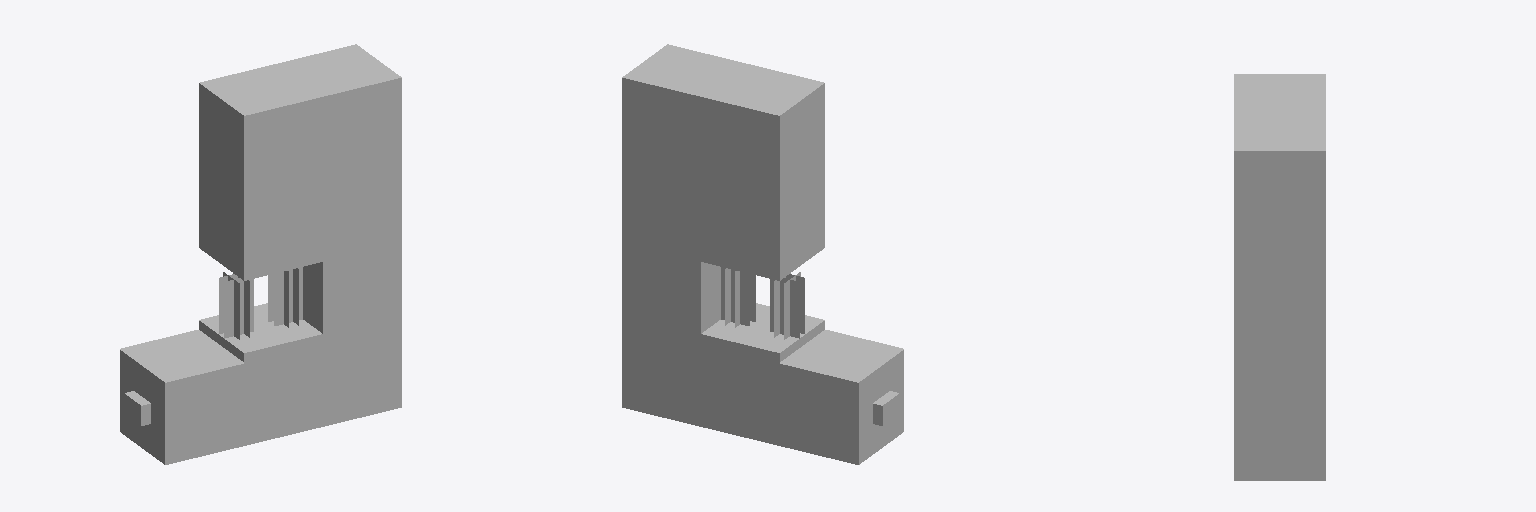
The model's file is double_extender_1.obj.
3 views of the same model, side by side, from view 1: azimuth 30°, elevation 25°; view 2: azimuth 150°, elevation 25°; view 3: azimuth 270°, elevation 25° (orthographic).
Visible parts, largest first — view 1: iron_block, piston_side, observer_top, redstone_torch_off, observer_side, redstone_wire_off, redstone_repeater_off, stone_slab_side, stone; view 2: iron_block, piston_side, observer_top, redstone_torch_off, observer_side, redstone_wire_off, redstone_repeater_off, stone_slab_side, stone; view 3: iron_block, piston_side.
Boxes of the visible parts, <box> form: iron_block: <box>120,44,401,464</box>; piston_side: <box>303,160,401,343</box>; observer_top: <box>244,179,322,280</box>; redstone_torch_off: <box>219,267,302,339</box>; observer_side: <box>199,166,243,280</box>; redstone_wire_off: <box>121,330,243,381</box>; redstone_repeater_off: <box>199,303,321,352</box>; stone_slab_side: <box>199,321,322,363</box>; stone: <box>124,391,150,425</box>; iron_block: <box>622,44,903,464</box>; piston_side: <box>622,160,720,343</box>; observer_top: <box>701,179,779,280</box>; redstone_torch_off: <box>721,267,804,339</box>; observer_side: <box>780,166,824,280</box>; redstone_wire_off: <box>780,330,902,381</box>; redstone_repeater_off: <box>702,303,824,352</box>; stone_slab_side: <box>701,321,824,363</box>; stone: <box>873,391,899,425</box>; iron_block: <box>1234,74,1325,480</box>; piston_side: <box>1234,234,1325,398</box>.
Size of the model in its own units: 3.12 by 4 by 1.